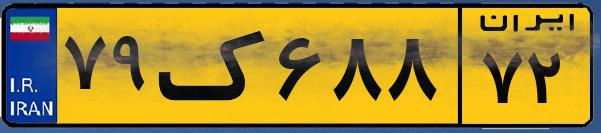2: (525, 38, 570, 115)
6: (270, 28, 330, 110)
7: (57, 26, 110, 100), (475, 38, 525, 113)
8: (385, 28, 445, 110), (330, 28, 385, 110)
9: (110, 28, 158, 98)
ک: (158, 12, 270, 120)
